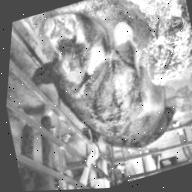boar: (10, 0, 192, 185)
